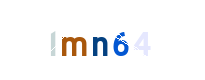4: (80, 0, 160, 80)
6: (63, 0, 143, 80)
L: (33, 0, 113, 80)
M: (39, 0, 119, 80)
N: (59, 0, 139, 80)
